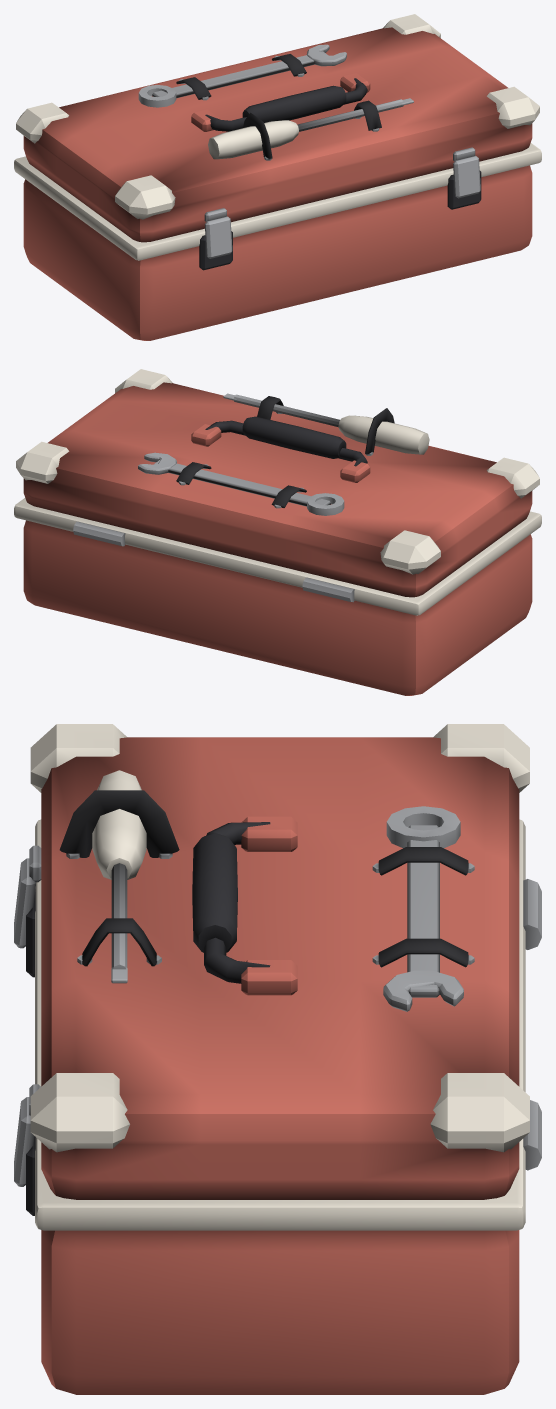
The model's file is repair.glb.
3 renders of one model, top to bottom at view 1: azimuth 30°, elevation 25°; view 2: azimuth 150°, elevation 25°; view 3: azimuth 270°, elevation 25°, orthographic. The views are drawn at different scales.
Parts seen in each view (by area): view 1: PART; view 2: PART; view 3: PART.
Boxes of the visible parts, box(x1,y1,x2,y2) form: PART: box(14, 14, 541, 340); PART: box(14, 369, 541, 695); PART: box(14, 724, 541, 1394).
Size of the model in its own units: 0.43 by 0.1858 by 0.2431.
